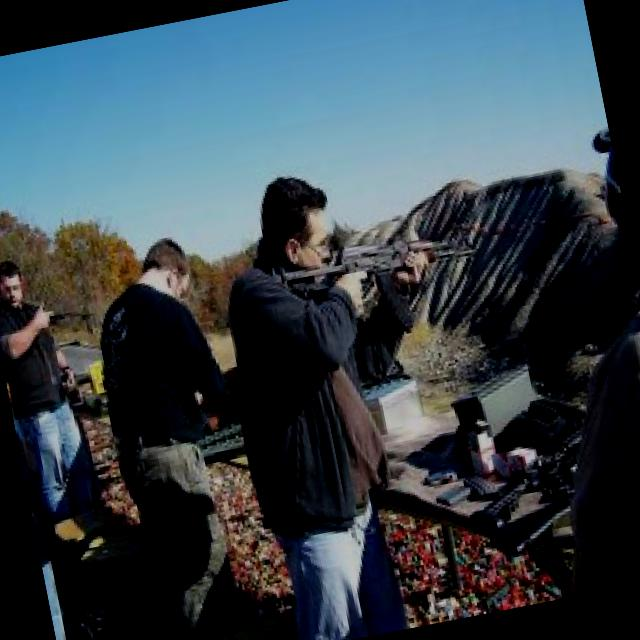long weapon: (278, 222, 491, 333)
